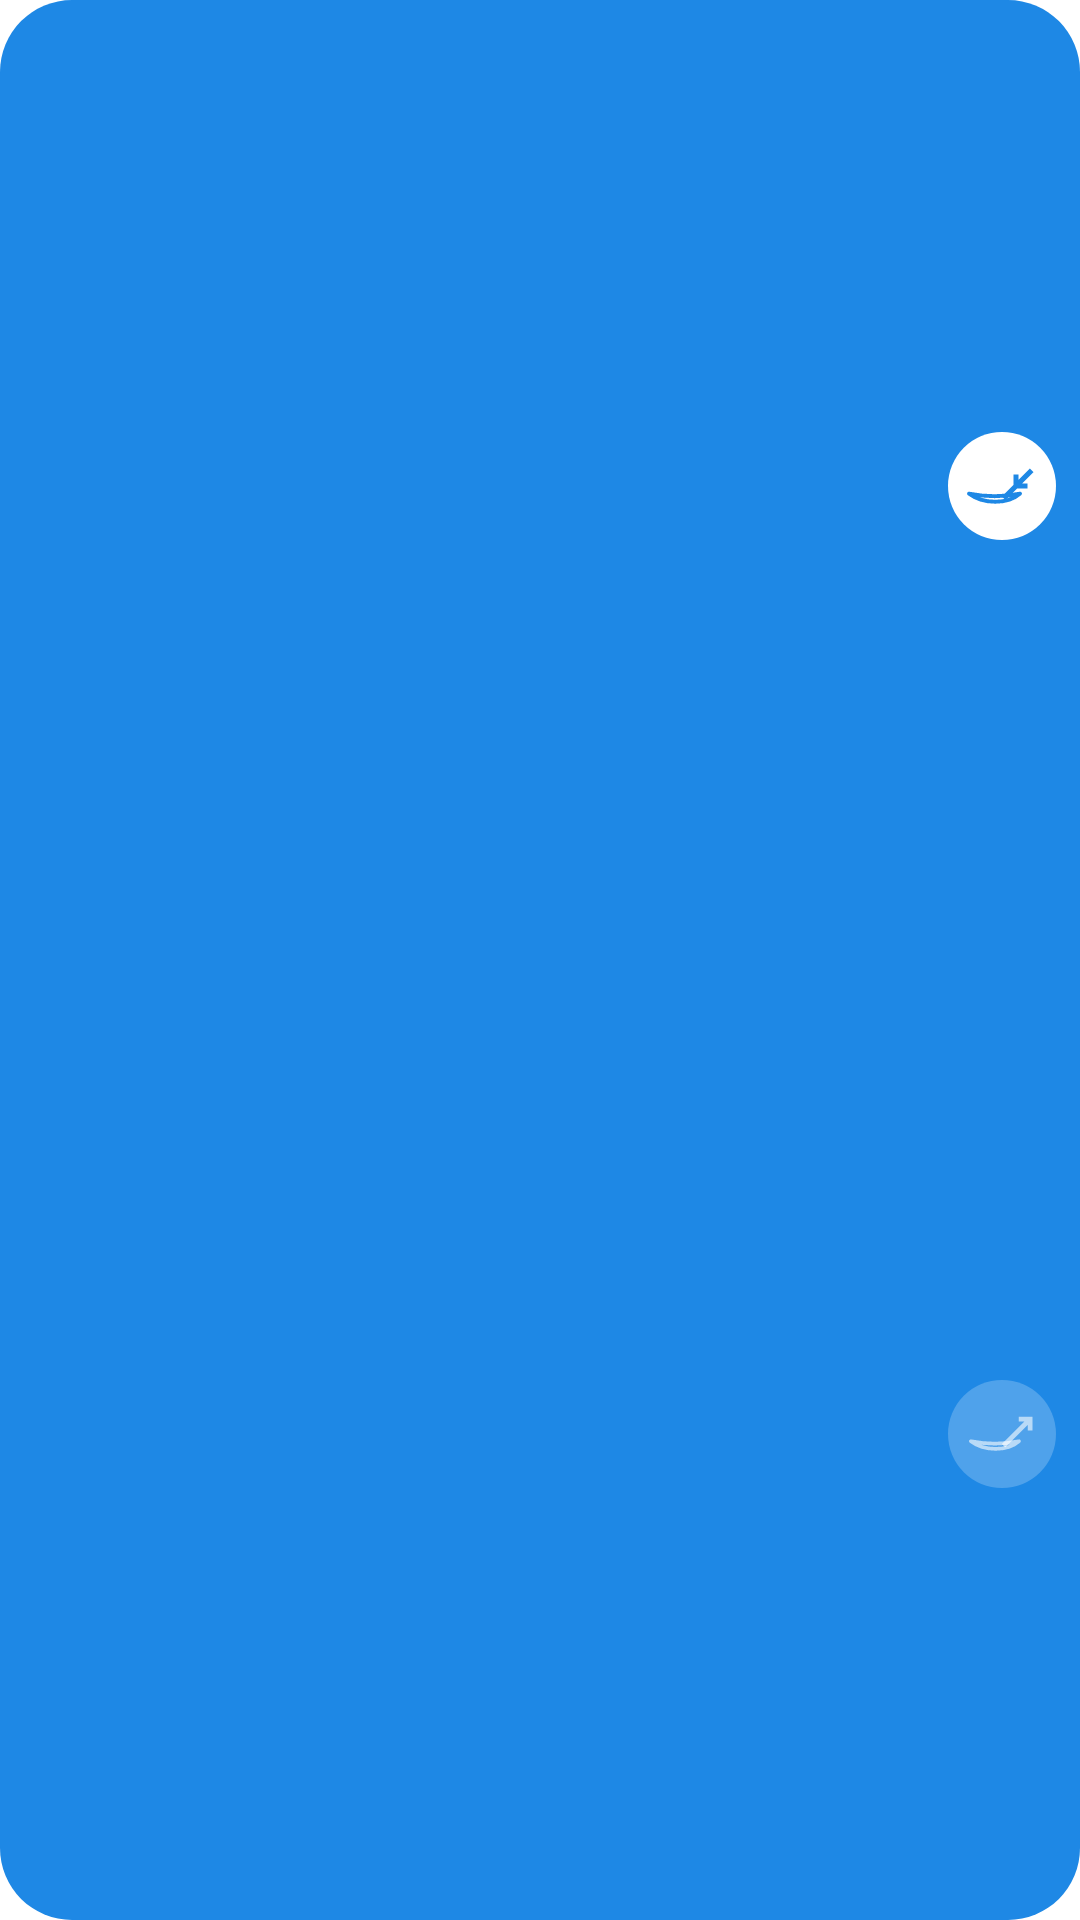

Screen size 1080x1920. Icon name, then its box in pixels as BBox(x1, y1, x2, y2):
Pull the pouch out: BBox(948, 1380, 1056, 1488)
Toss in a pouch: BBox(948, 432, 1056, 540)
